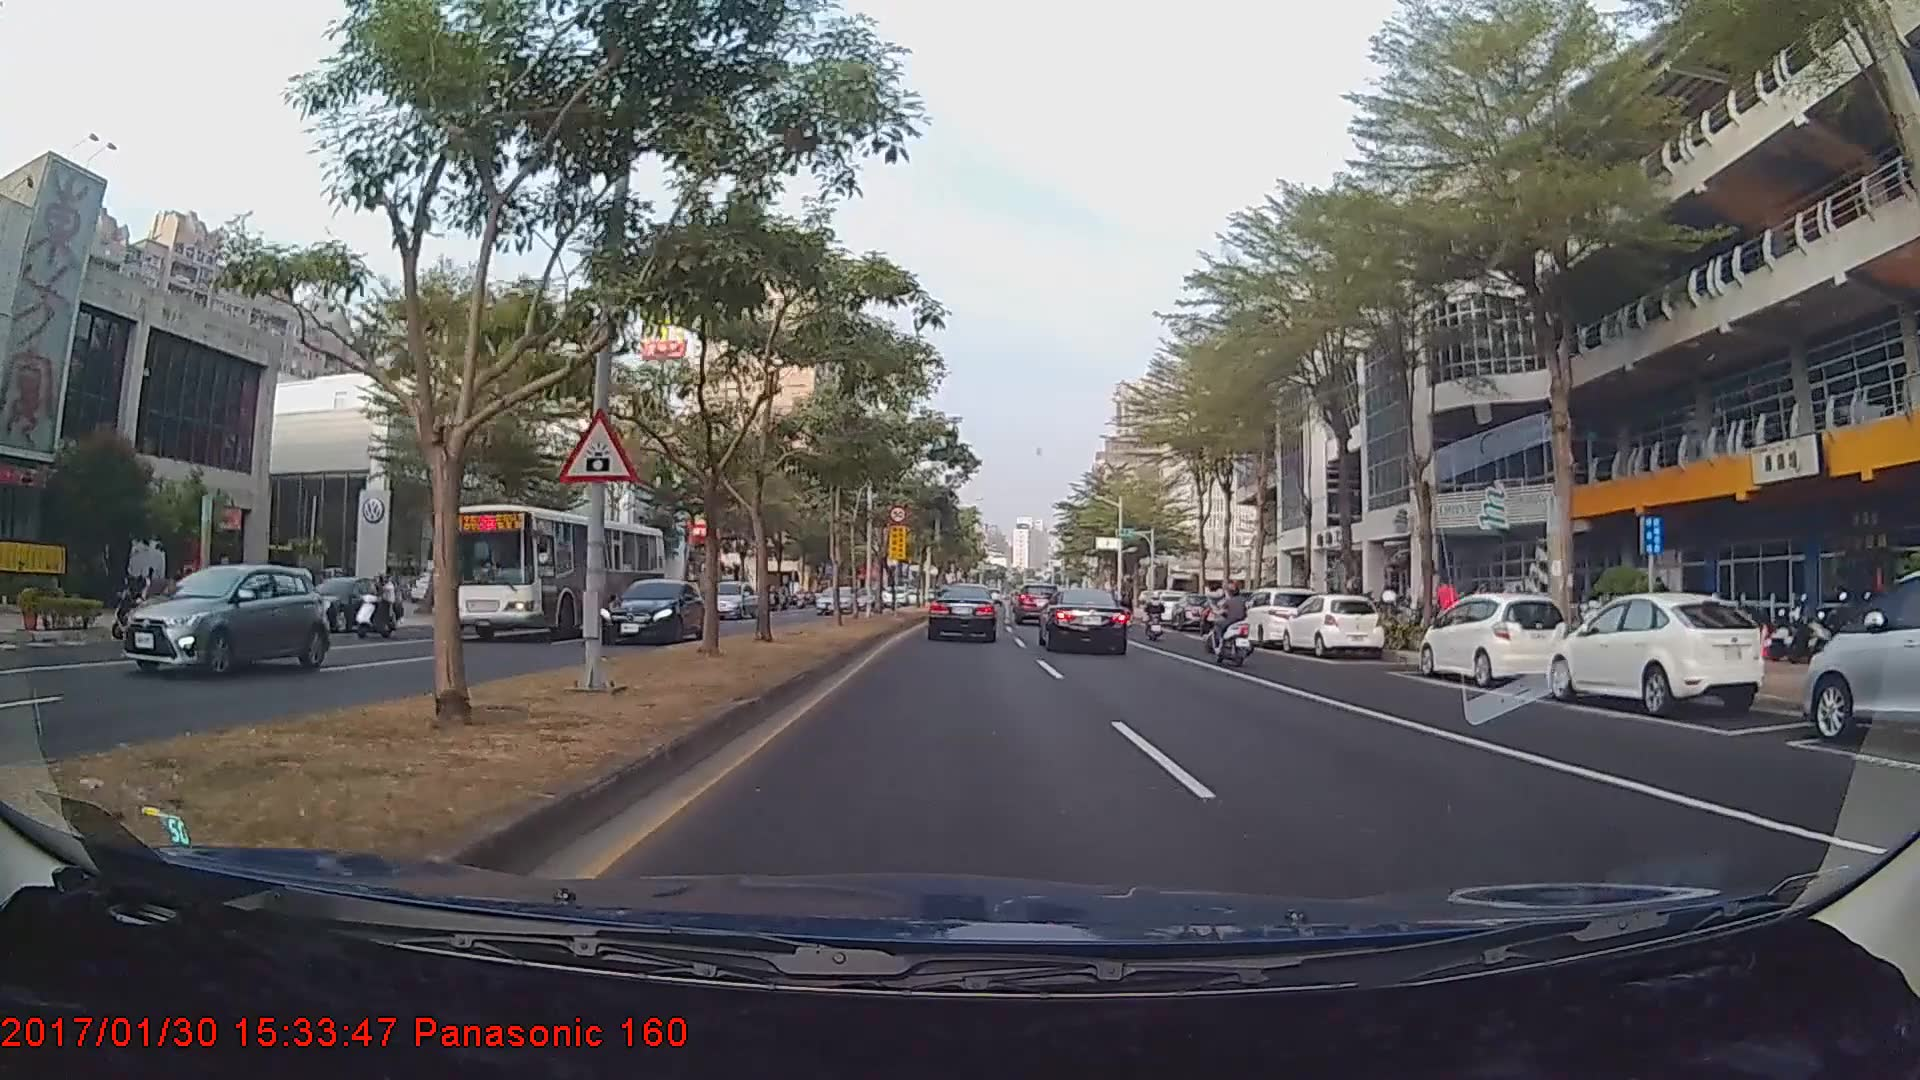rider: (1208, 582, 1262, 672), (346, 572, 402, 643), (1202, 588, 1248, 655), (1145, 586, 1171, 642)
vehicle: (437, 504, 668, 644), (1547, 590, 1767, 718), (117, 563, 326, 679), (1800, 558, 1920, 755), (1422, 592, 1575, 689), (600, 577, 706, 643), (1284, 592, 1383, 658), (1039, 587, 1130, 655), (300, 576, 404, 633), (1230, 584, 1324, 644), (926, 581, 1000, 643), (1012, 581, 1063, 624), (699, 581, 757, 619), (812, 584, 858, 614)
